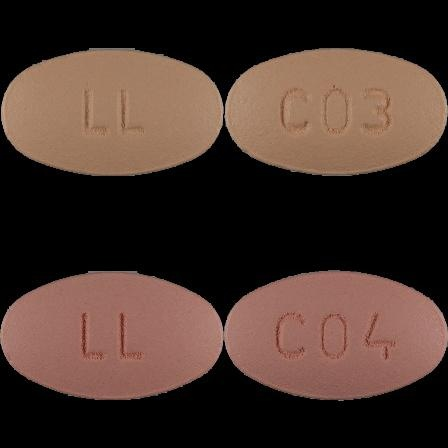68180-479: (0, 0, 224, 224)
